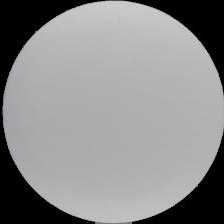23155-103: (0, 0, 224, 224)
